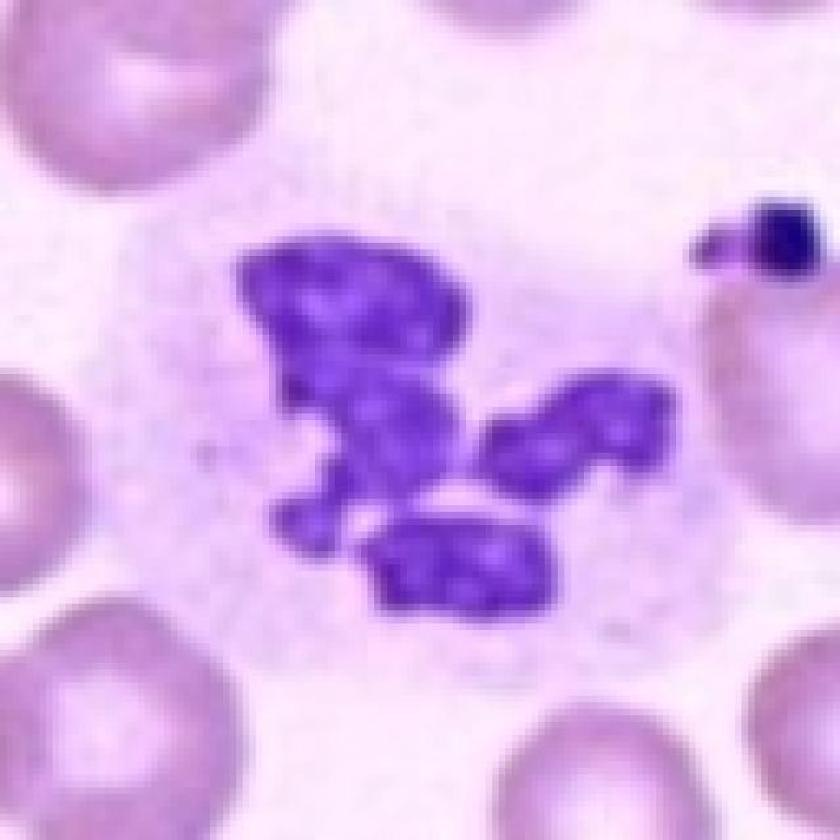neutrophil: (100, 165, 764, 703)
